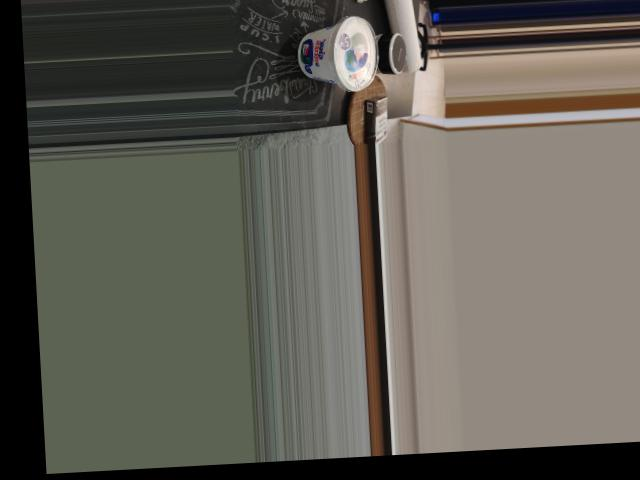cotage: (291, 15, 381, 90)
